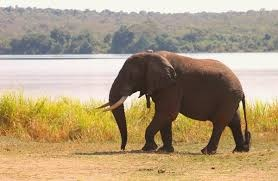elephant: (94, 46, 257, 157)
